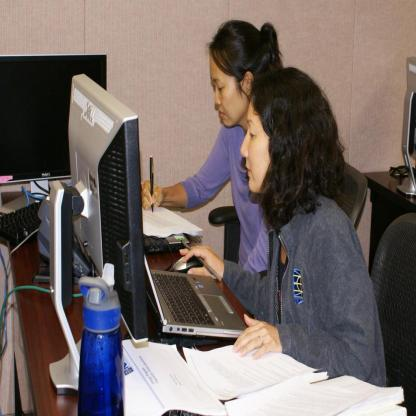board: (144, 251, 248, 336), (76, 262, 125, 416)
